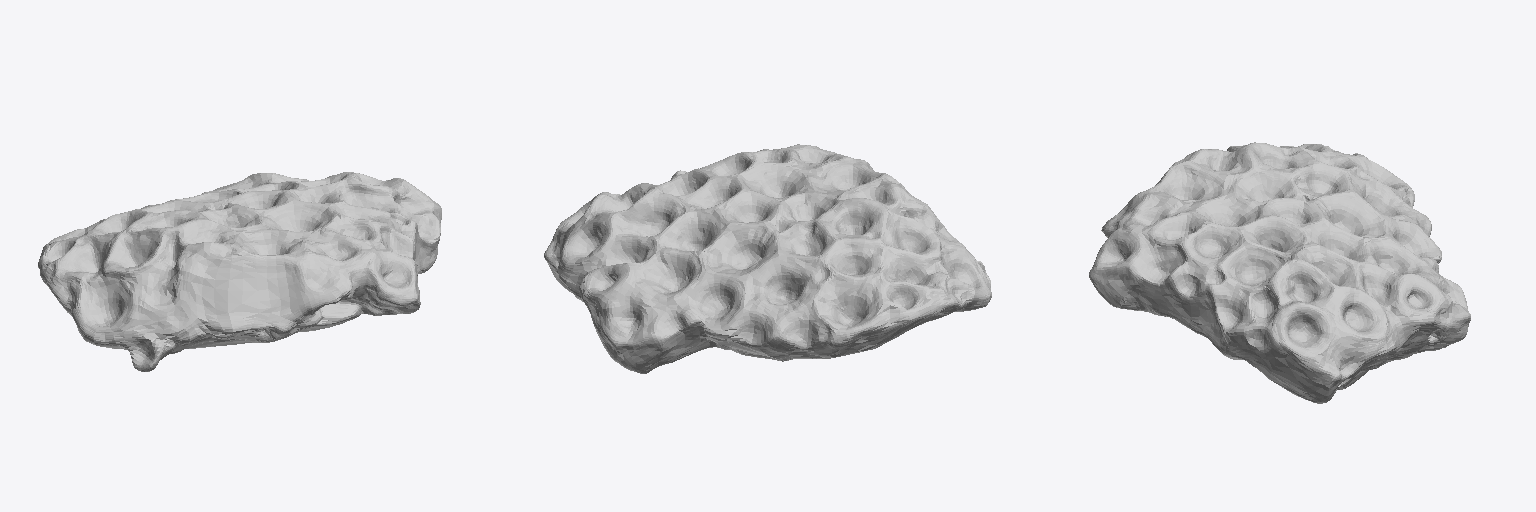
File: coral2.obj
3 views of the same model, side by side, from view 1: azimuth 30°, elevation 25°; view 2: azimuth 150°, elevation 25°; view 3: azimuth 270°, elevation 25° (orthographic).
Visible parts, largest first — view 1: coral2; view 2: coral2; view 3: coral2.
Part boxes in pixels (x1,y1,x2,y2): coral2: (38, 172, 441, 371); coral2: (544, 144, 991, 373); coral2: (1089, 142, 1470, 403).
Size of the model in its own units: 10.88 by 3.46 by 9.16.